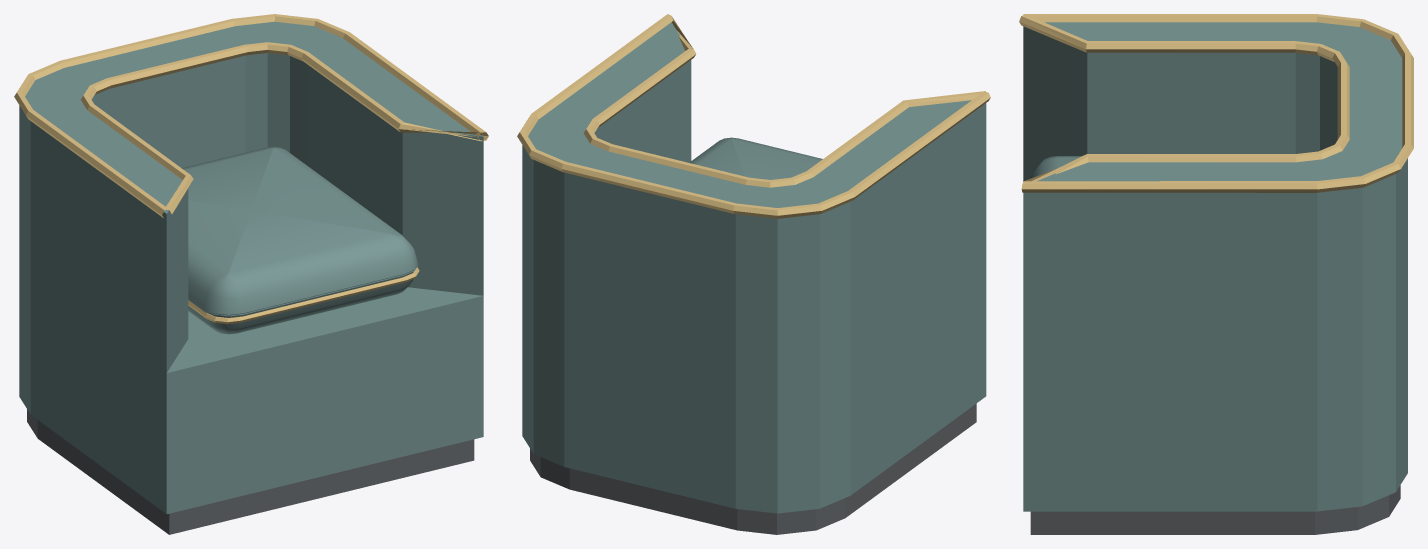
File: restaurant-kitchen-and-dining-tub-armchair-d52747cc__16505.glb
The picture shows the model from 3 angles, left to right: view 1: azimuth 30°, elevation 25°; view 2: azimuth 150°, elevation 25°; view 3: azimuth 270°, elevation 25°; orthographic projection. The views are drawn at different scales.
Visible parts, largest first — view 1: tub-armchair; view 2: tub-armchair; view 3: tub-armchair.
Boxes of the visible parts, x1,y1,x2,y2 form: tub-armchair: (14,14,488,534); tub-armchair: (517,14,990,534); tub-armchair: (1019,14,1413,534).
Bounding box in the file's own units: 0.762 × 0.7395 × 0.7387.
